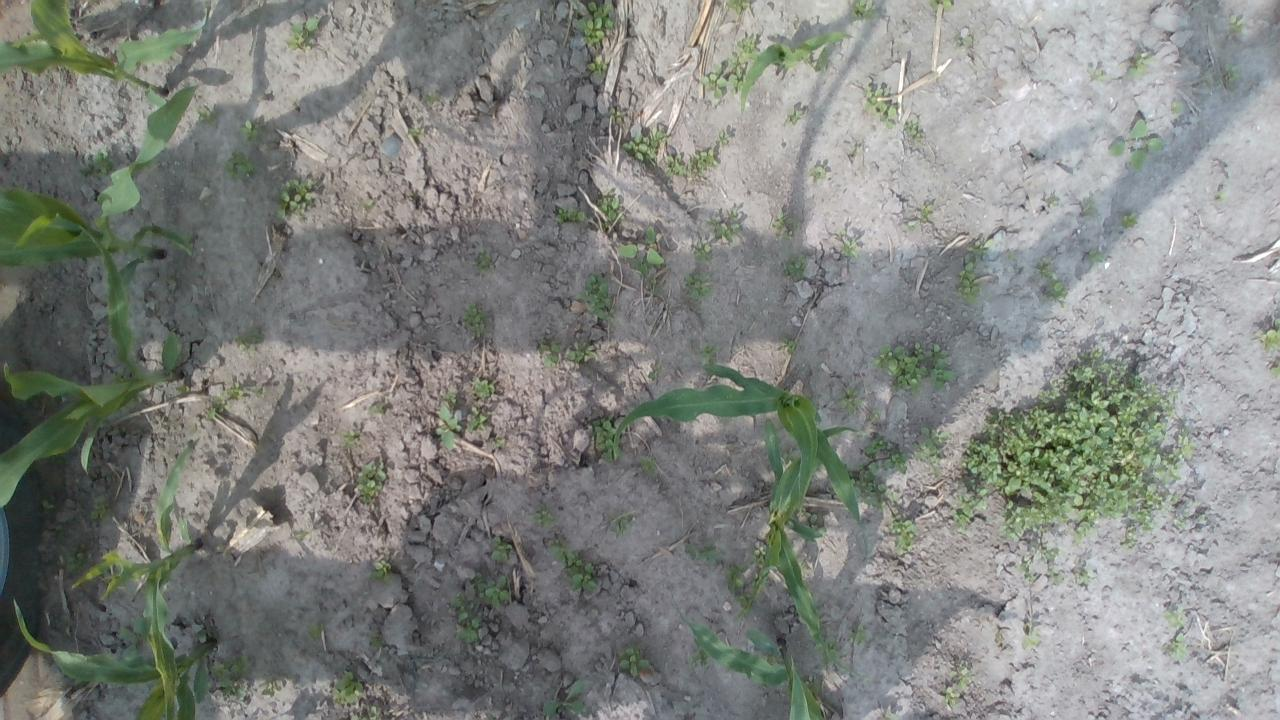Maize: (0, 212, 182, 510), (614, 362, 869, 564), (0, 79, 198, 300), (75, 439, 202, 720), (761, 412, 872, 680), (10, 598, 216, 720), (0, 0, 210, 108), (670, 592, 826, 720), (739, 30, 872, 113)
Weeds: (950, 346, 1208, 548), (873, 340, 956, 398), (548, 536, 600, 592), (1108, 119, 1164, 170), (616, 223, 665, 276), (846, 461, 899, 510), (573, 270, 617, 325), (208, 653, 252, 701), (911, 426, 950, 477), (272, 176, 314, 221), (590, 410, 624, 464), (574, 0, 614, 45), (724, 560, 752, 620), (864, 434, 906, 474), (622, 126, 668, 162), (541, 680, 586, 716), (862, 84, 897, 130), (699, 62, 742, 98), (726, 34, 761, 78), (1038, 256, 1070, 304), (453, 591, 482, 643), (469, 571, 510, 607), (354, 458, 386, 504), (116, 616, 148, 660), (888, 514, 918, 556), (436, 405, 462, 452), (224, 150, 262, 182), (284, 16, 318, 51), (707, 208, 740, 244), (595, 190, 625, 229), (77, 150, 118, 178), (956, 262, 982, 306), (330, 670, 363, 704), (617, 646, 652, 678), (1254, 313, 1280, 354), (814, 634, 844, 668), (461, 301, 488, 337), (772, 208, 801, 240), (234, 328, 266, 357), (682, 271, 712, 301), (683, 541, 721, 564), (1161, 631, 1190, 661), (1124, 50, 1154, 78), (800, 507, 830, 534), (607, 508, 635, 536), (689, 148, 718, 175), (964, 238, 994, 264), (238, 118, 268, 144), (64, 546, 90, 576), (838, 386, 864, 416), (1042, 546, 1062, 584), (782, 250, 807, 280), (538, 338, 562, 368), (846, 0, 879, 21), (566, 342, 596, 364), (804, 47, 830, 72), (489, 537, 515, 562), (368, 559, 394, 584), (687, 646, 711, 672), (90, 496, 114, 522), (948, 664, 972, 689), (750, 568, 770, 598), (902, 116, 925, 142), (530, 505, 556, 528), (260, 673, 286, 696), (838, 229, 858, 258), (473, 376, 497, 400), (586, 56, 608, 82), (195, 106, 220, 128), (466, 406, 488, 431), (1021, 623, 1042, 649), (554, 205, 586, 222), (1014, 560, 1037, 583), (472, 246, 492, 272), (696, 343, 718, 366), (664, 154, 686, 176), (1164, 609, 1188, 629), (1223, 62, 1241, 88), (1086, 64, 1110, 83), (350, 705, 380, 720), (1080, 196, 1100, 218), (636, 454, 658, 474), (850, 624, 870, 646), (340, 427, 360, 448), (784, 106, 804, 126), (306, 618, 326, 638), (803, 676, 821, 698), (694, 241, 714, 260), (1074, 565, 1092, 586), (781, 334, 798, 356), (944, 684, 960, 707), (725, 0, 751, 14), (106, 369, 134, 382), (51, 523, 71, 541), (1228, 12, 1244, 34), (225, 382, 243, 401), (368, 631, 388, 648), (1088, 249, 1106, 267), (749, 546, 766, 565), (808, 164, 828, 180), (194, 625, 214, 641), (42, 499, 58, 519), (954, 30, 974, 46), (1121, 211, 1139, 228), (608, 106, 624, 124), (212, 394, 228, 412), (124, 395, 146, 408), (648, 364, 665, 380), (918, 204, 933, 222), (647, 278, 662, 296), (928, 0, 952, 10), (1268, 363, 1280, 382), (714, 131, 730, 145), (868, 410, 882, 426), (424, 92, 441, 104), (766, 652, 780, 666), (1172, 100, 1186, 114), (370, 402, 386, 414), (250, 385, 268, 395), (175, 384, 190, 395), (408, 126, 424, 136), (444, 389, 456, 402), (493, 437, 507, 448), (362, 198, 374, 210), (1215, 188, 1227, 200), (294, 530, 308, 540), (206, 408, 217, 420), (906, 220, 917, 230), (1048, 197, 1060, 206)
